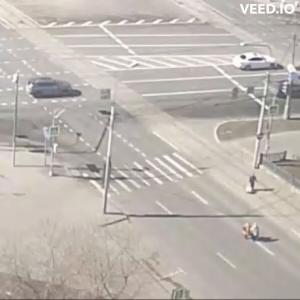car: (30, 79, 83, 100), (234, 53, 280, 72)
